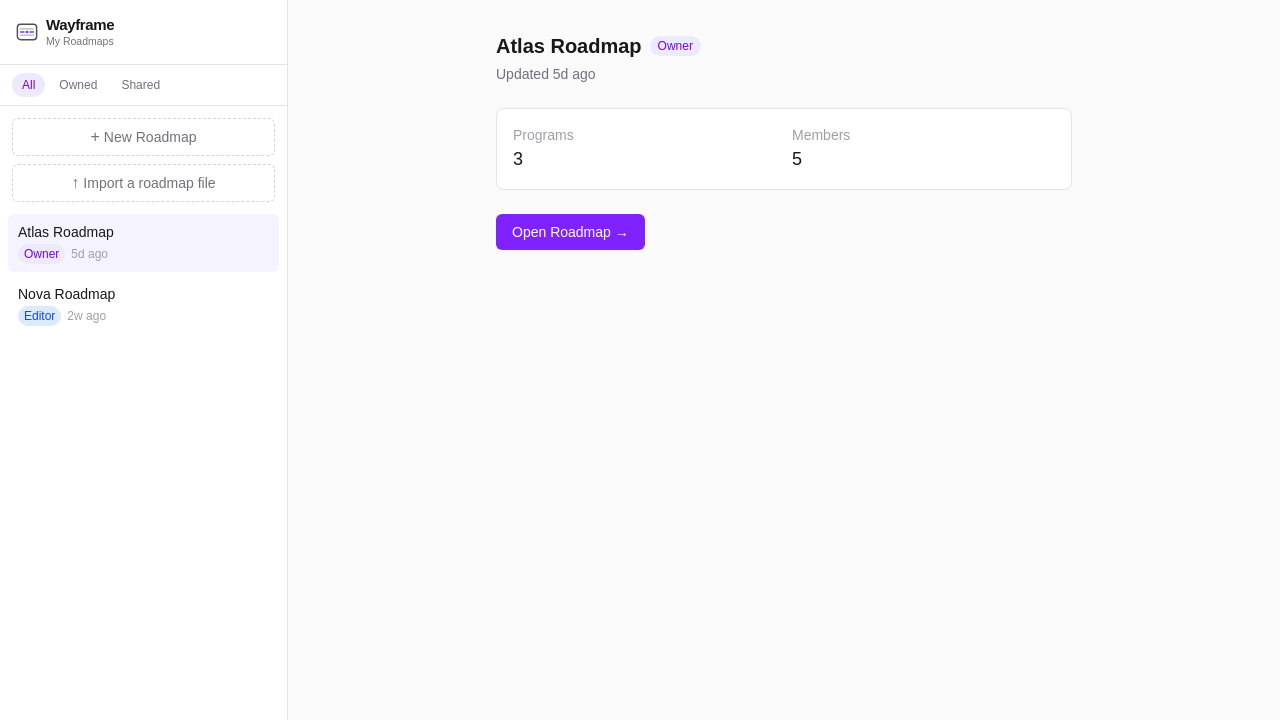
MyRoadmapsLanding (wayframe#123) › switches the detail pane when a different Roadmap is selected
Expected: the heading "Atlas Roadmap" is shown, 496,32 -> 642,60
Click the text "Nova Roadmap" at [67, 294], box 18,284 -> 115,304
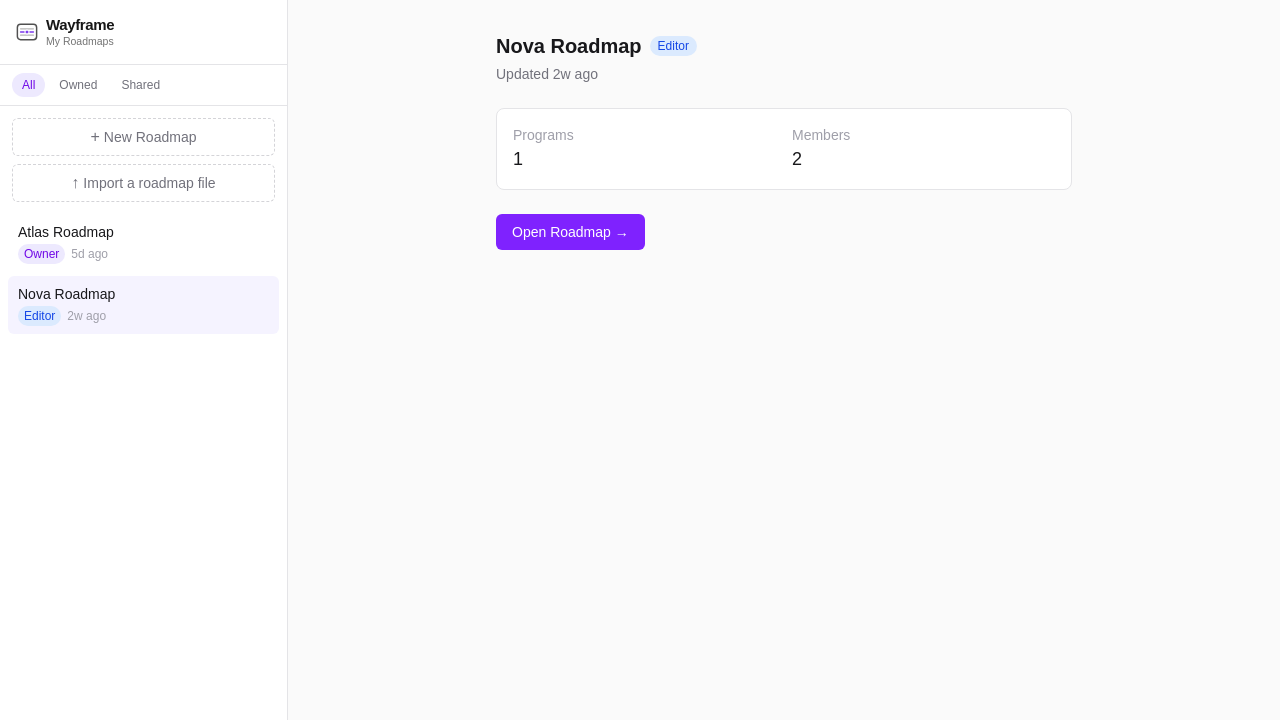
Expected: the heading "Nova Roadmap" is shown, 496,32 -> 642,60
